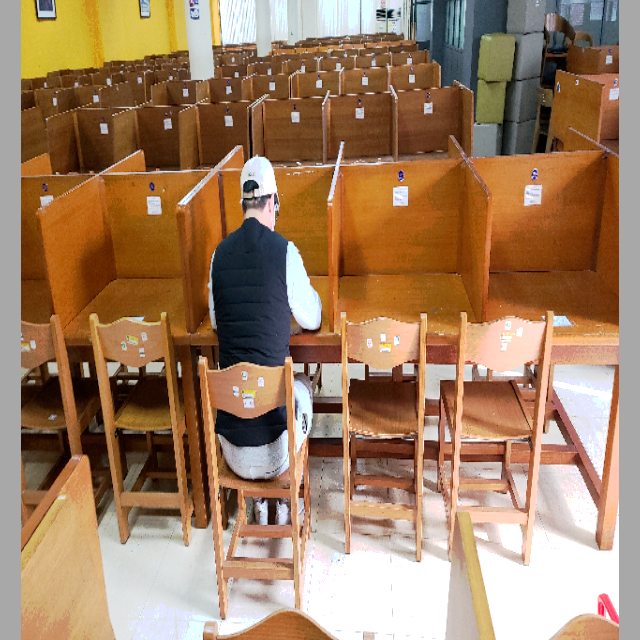empty: (336, 155, 472, 426), (486, 151, 619, 425)
full: (191, 160, 329, 488)
